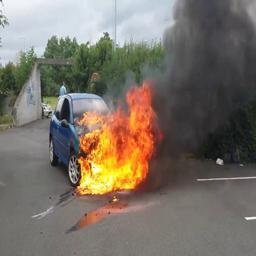fire: (76, 79, 161, 192)
